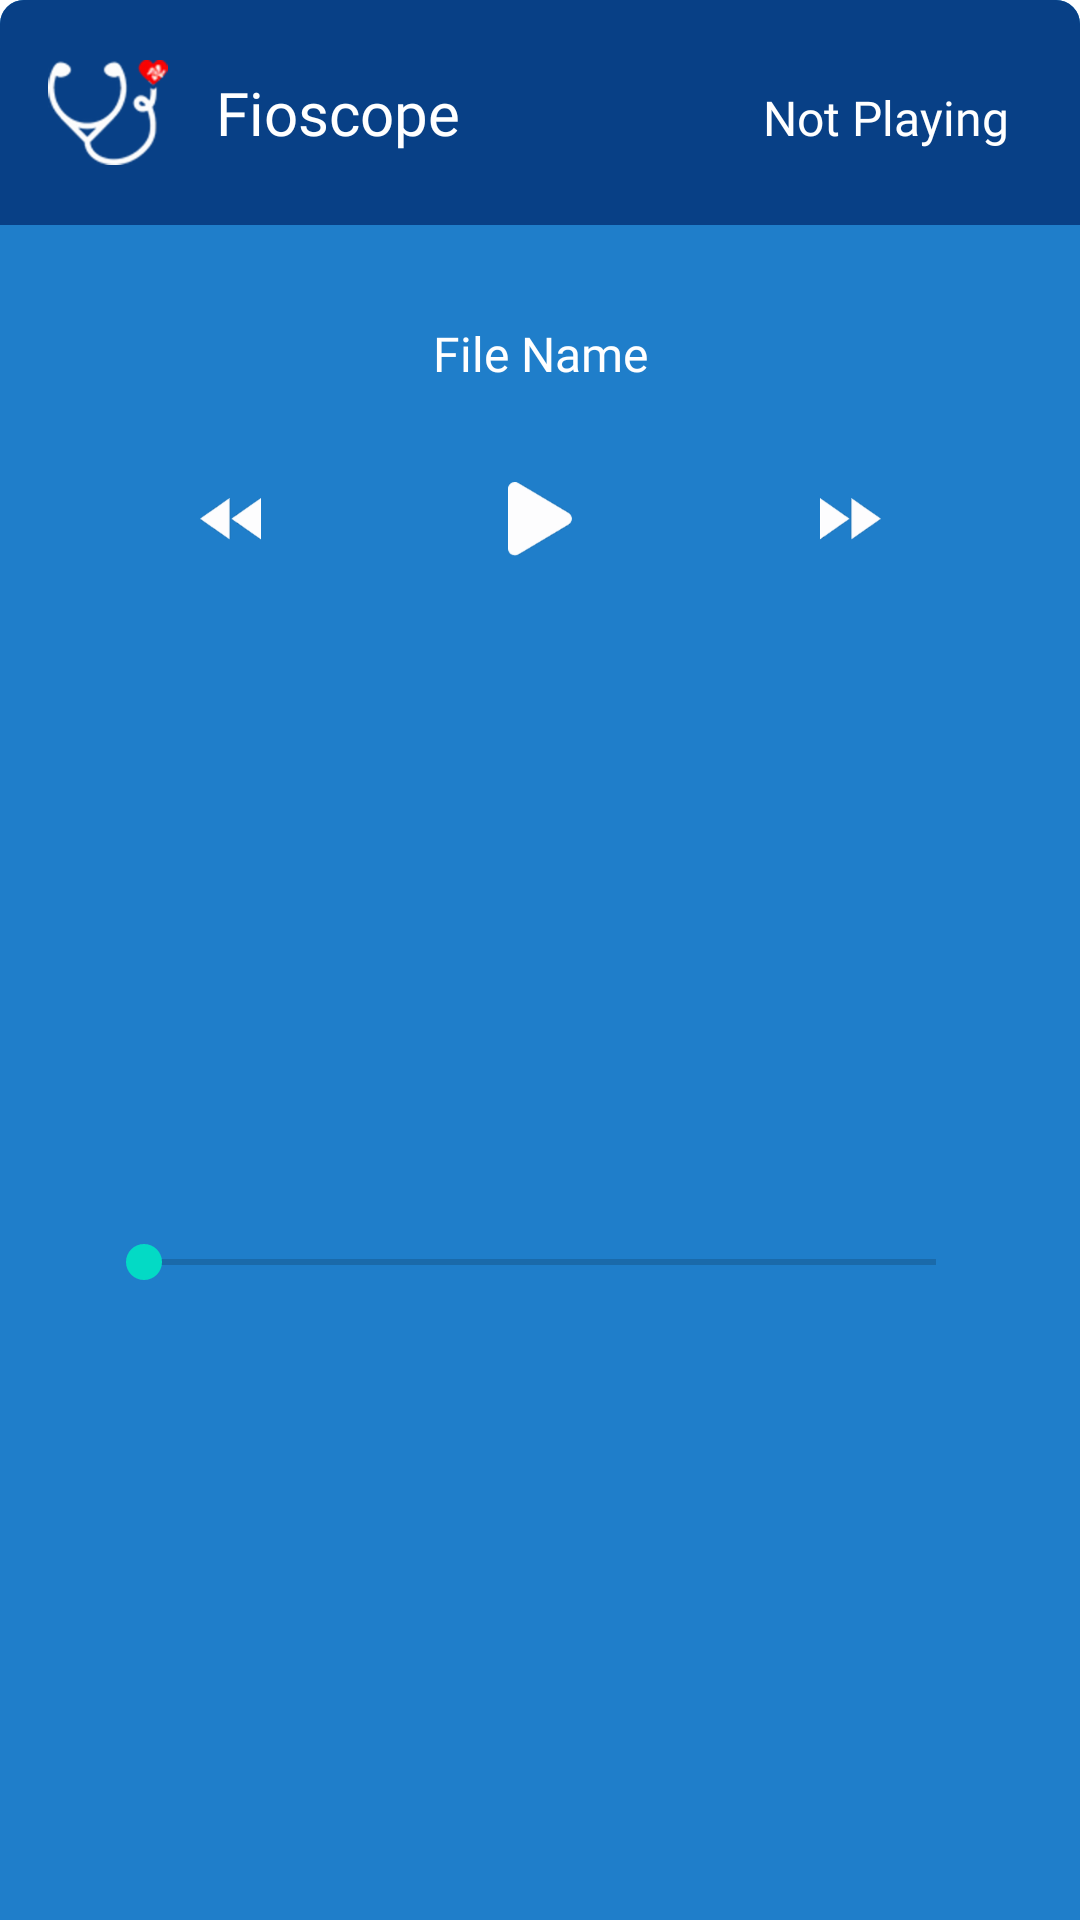

Locate icon controls on the screen. Image size 1080*1920, boxes as (x1, y1, x2, y2).
player back: (200, 498, 261, 540)
player forward: (820, 498, 881, 539)
player play: (508, 482, 572, 556)
